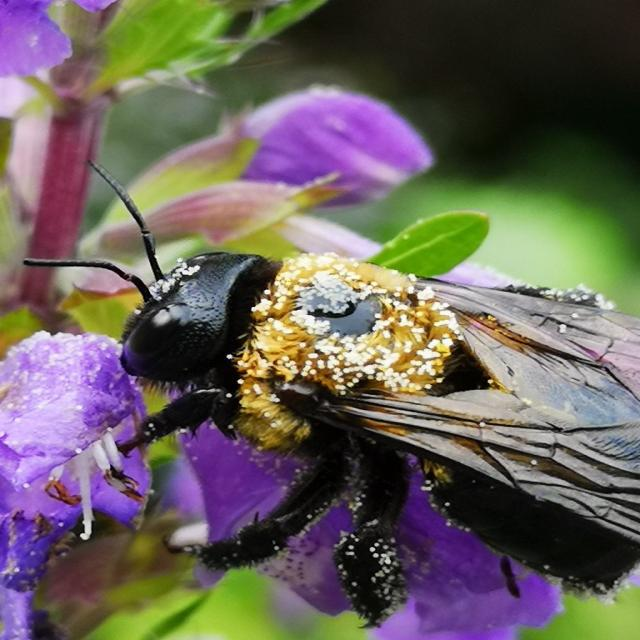Xylocopa: (24, 142, 640, 626)
